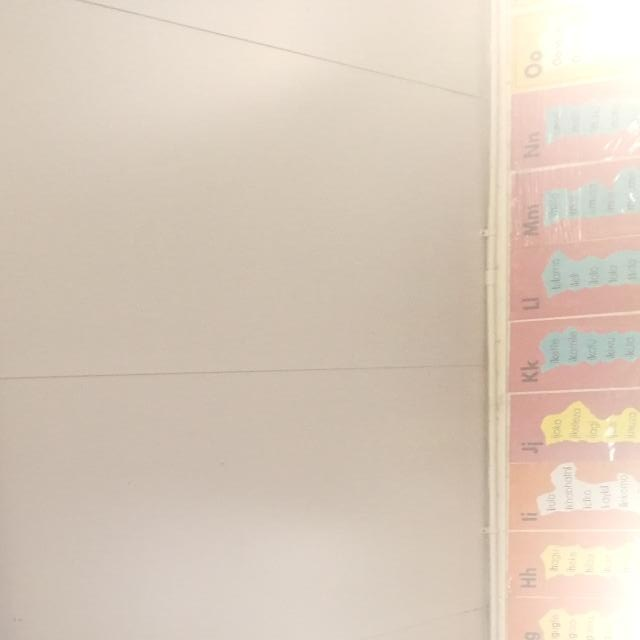fluorescent tube: (0, 222, 83, 640)
